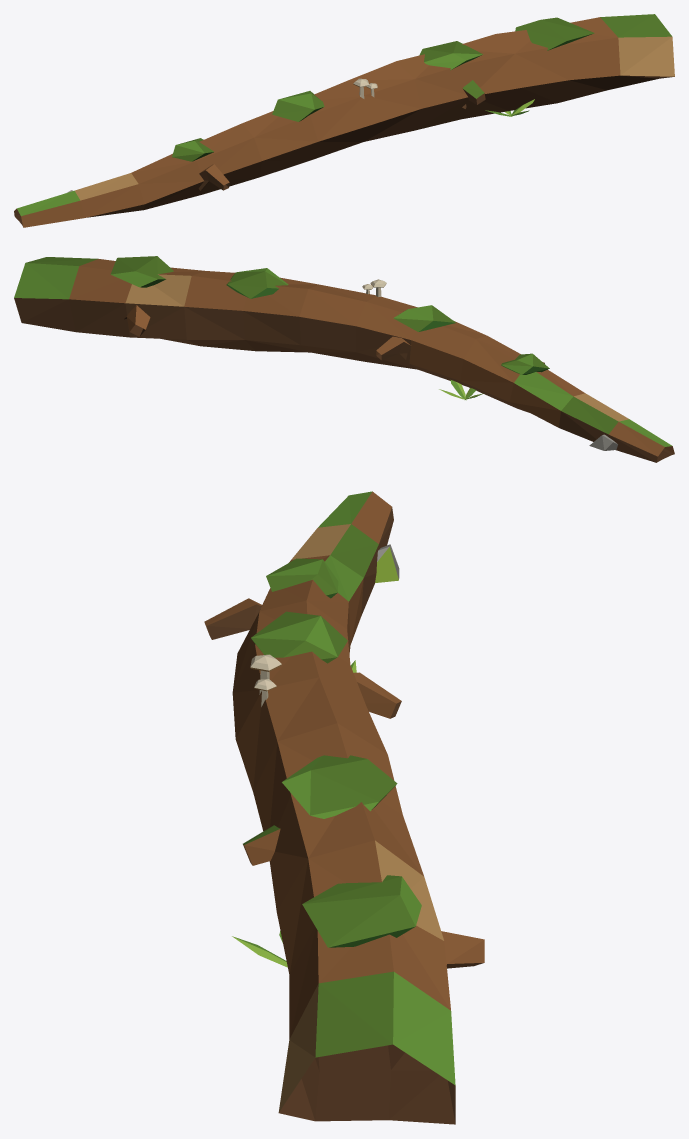
File: hollow_roots_a.glb
The picture shows the model from 3 angles, top to bottom: view 1: azimuth 30°, elevation 25°; view 2: azimuth 150°, elevation 25°; view 3: azimuth 270°, elevation 25°; orthographic projection. The views are drawn at different scales.
Visible parts, largest first — view 1: hollow_roots_a; view 2: hollow_roots_a; view 3: hollow_roots_a.
Part boxes in pixels (left/top/right/bottom): hollow_roots_a: left=14, top=14, right=674, bottom=227; hollow_roots_a: left=14, top=256, right=674, bottom=462; hollow_roots_a: left=204, top=491, right=484, bottom=1124.
Bounding box in the file's own units: 6 × 0.7506 × 1.15.
